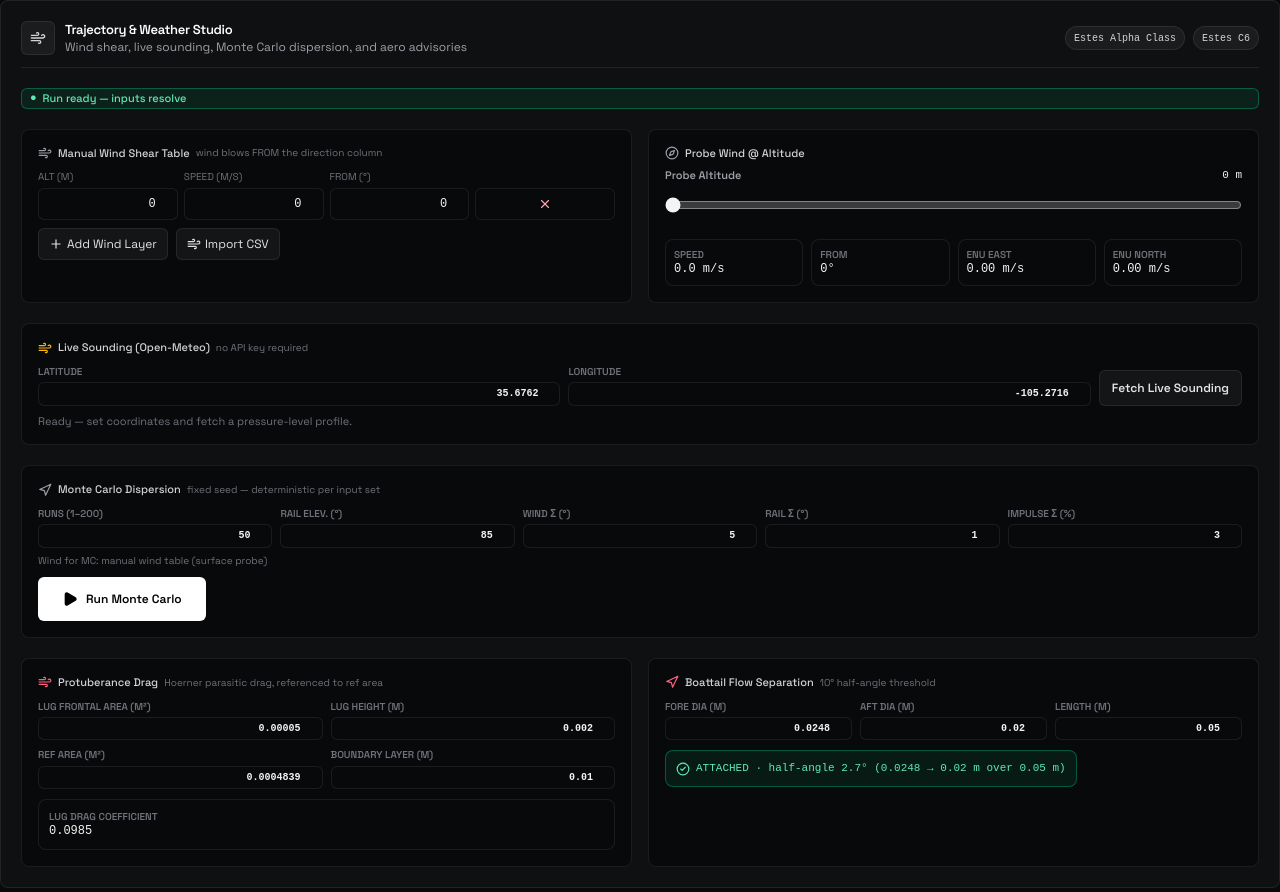
Test case: TrajectoryStudio › uses the fetched live sounding for MC wind (sounding > manual)
Step 1. Click the button "Fetch Live Sounding" → (1170, 388), box [1099,370,1242,406]
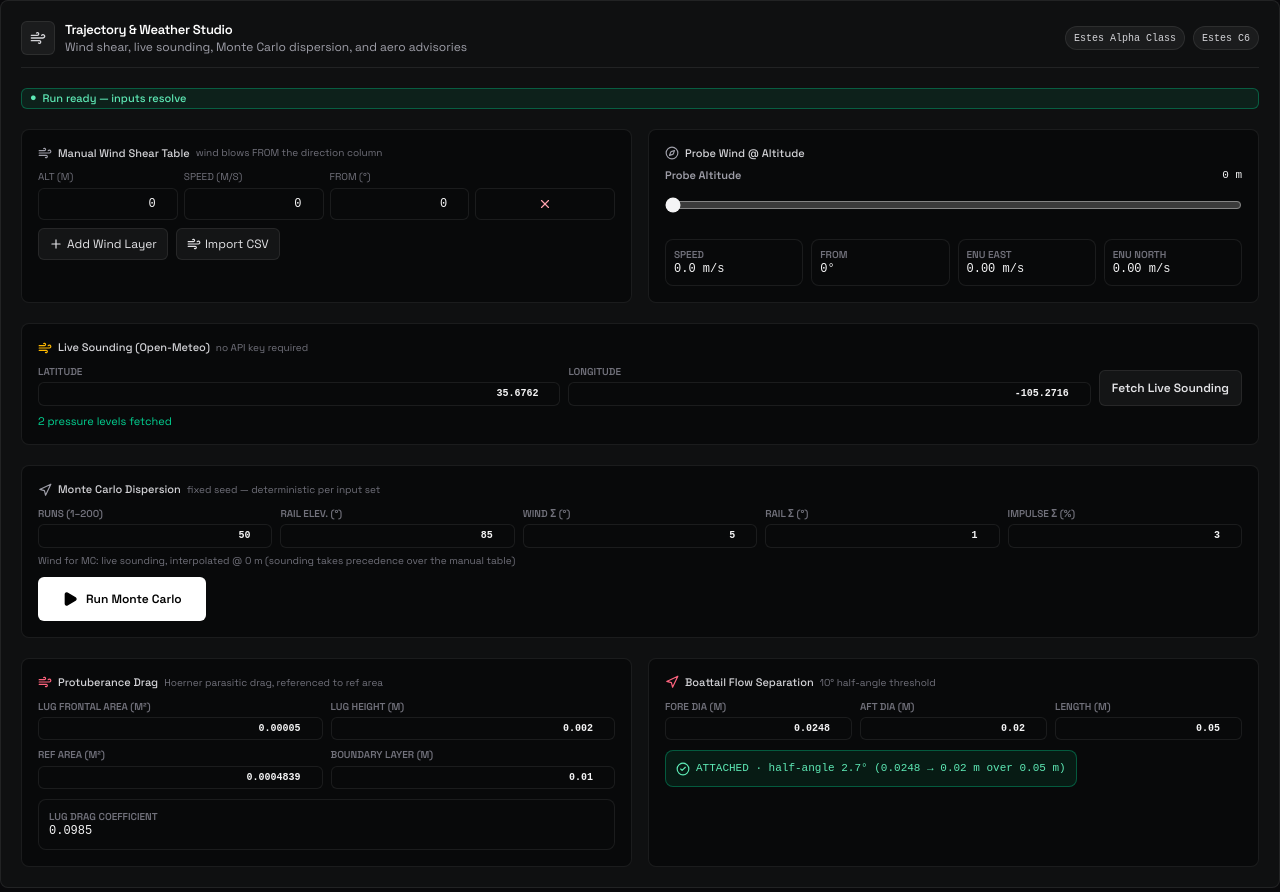
Now the text "2 pressure levels fetched" is shown, box [38,414,172,428]
Step 2. Replace the text in the number field named "Monte Carlo run count" with "5" → (155, 536), box [38,524,272,548]
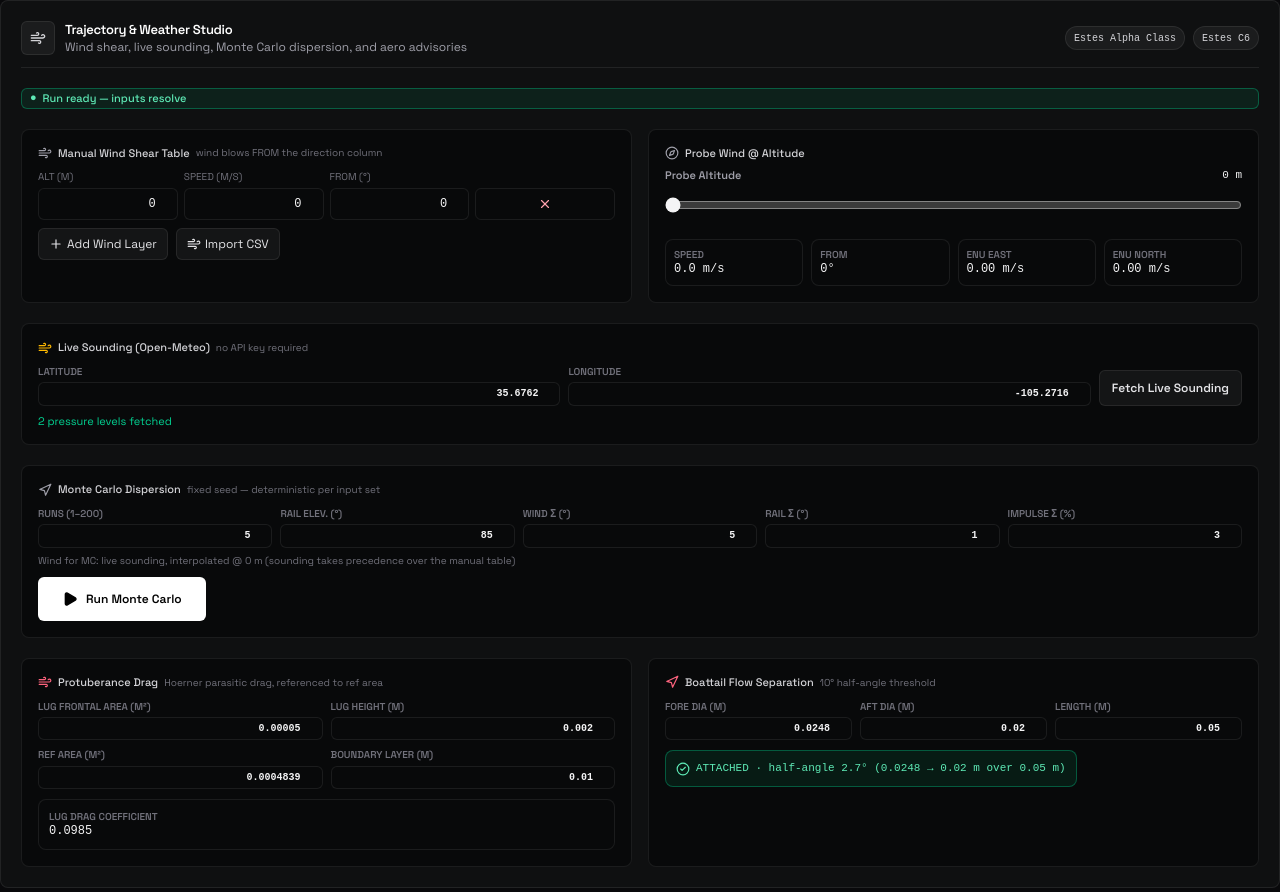
Step 3. Replace the text in the number field named "Wind direction sigma (deg)" with "0" → (640, 536), box [523,524,757,548]
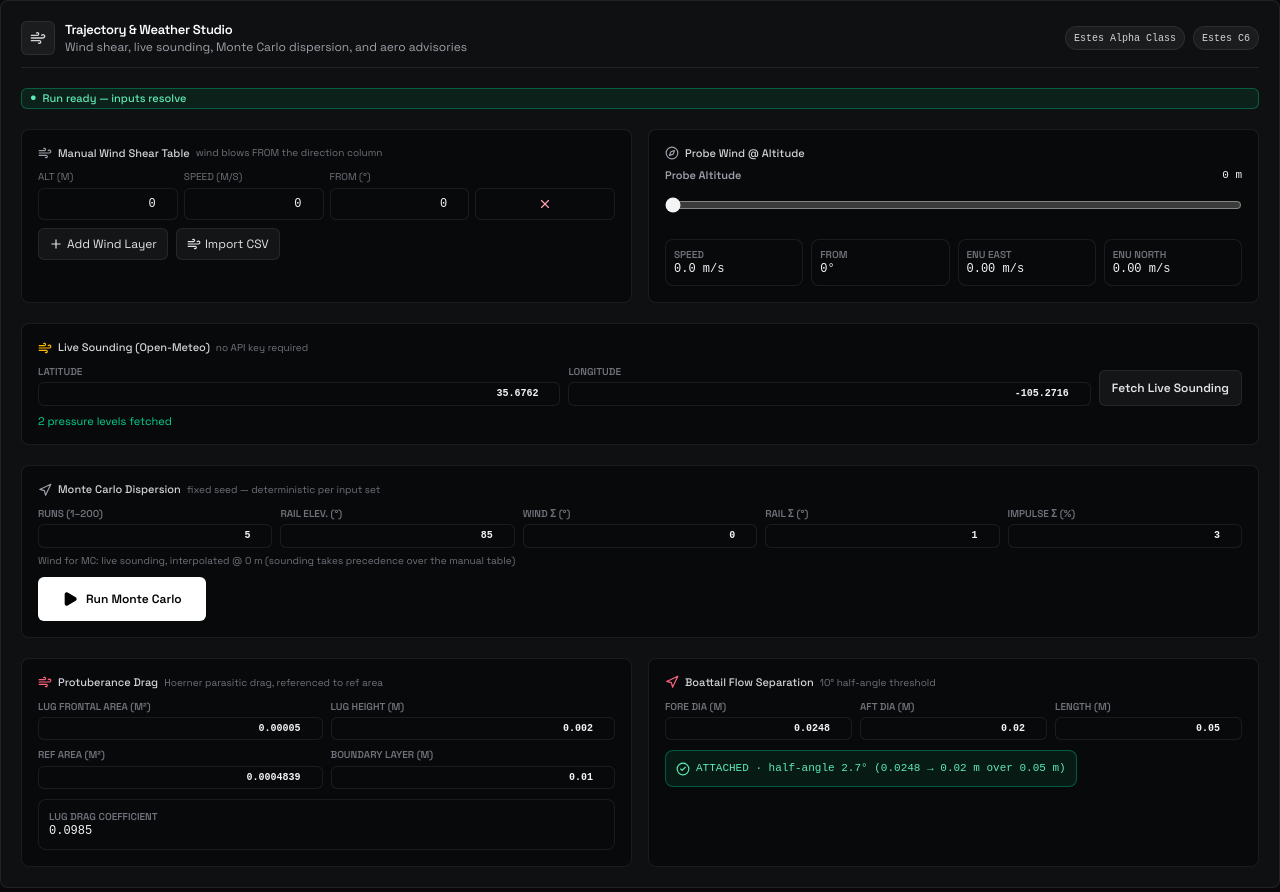
Step 4. Replace the text in the number field named "Rail angle sigma (deg)" with "0" → (882, 536), box [765,524,1000,548]
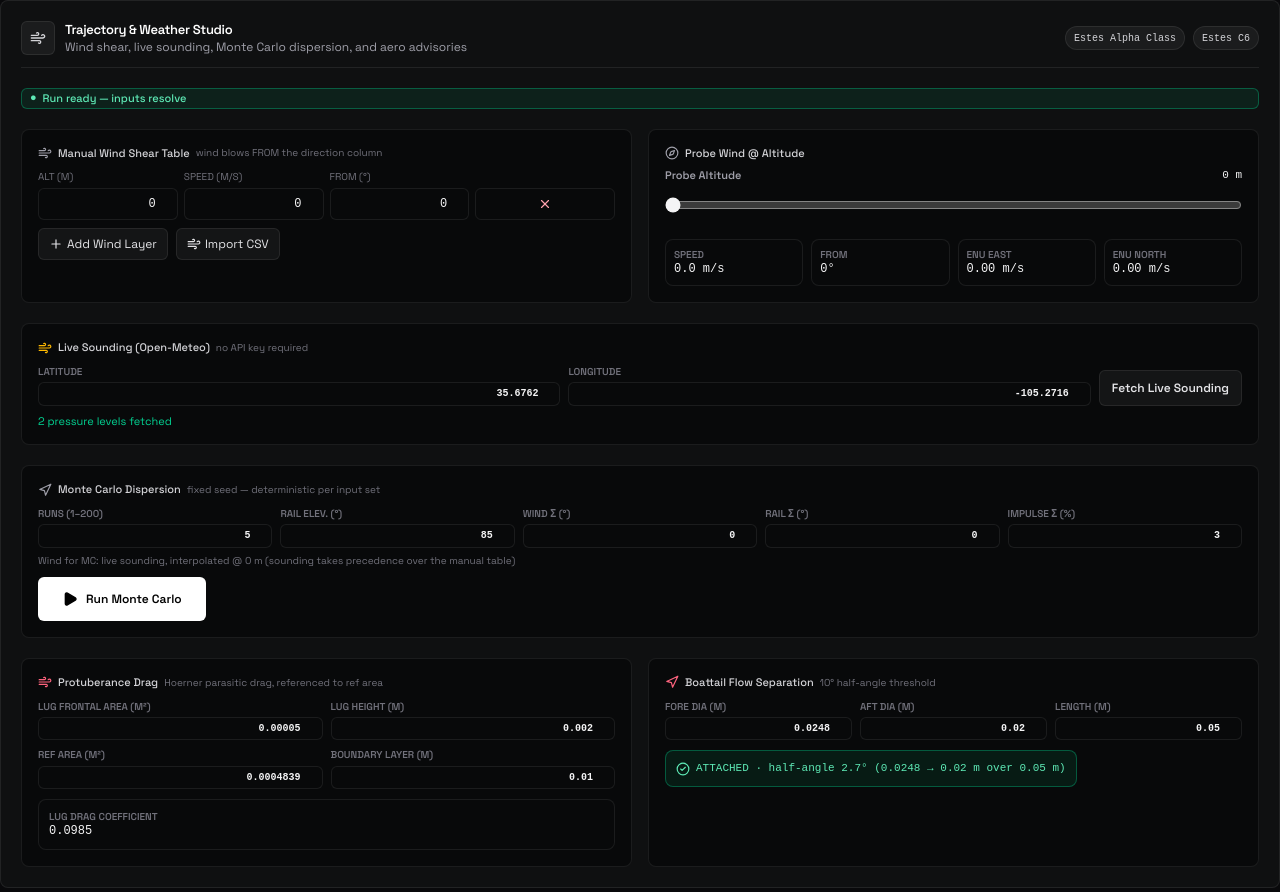
Step 5. Replace the text in the number field named "Impulse sigma (%)" with "0" → (1125, 536), box [1008,524,1242,548]
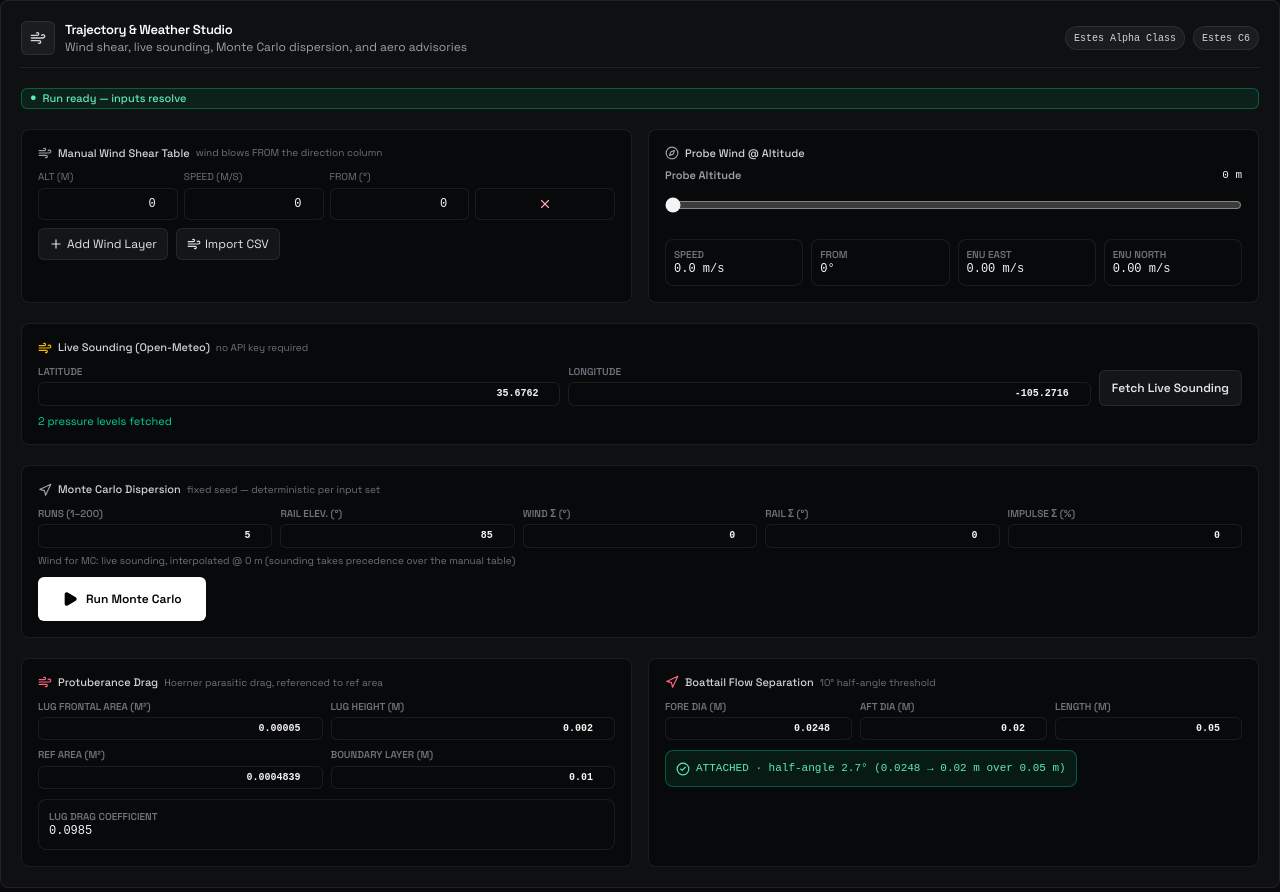
Step 6. Click the button "Run Monte Carlo" → (122, 599), box [38,577,206,621]
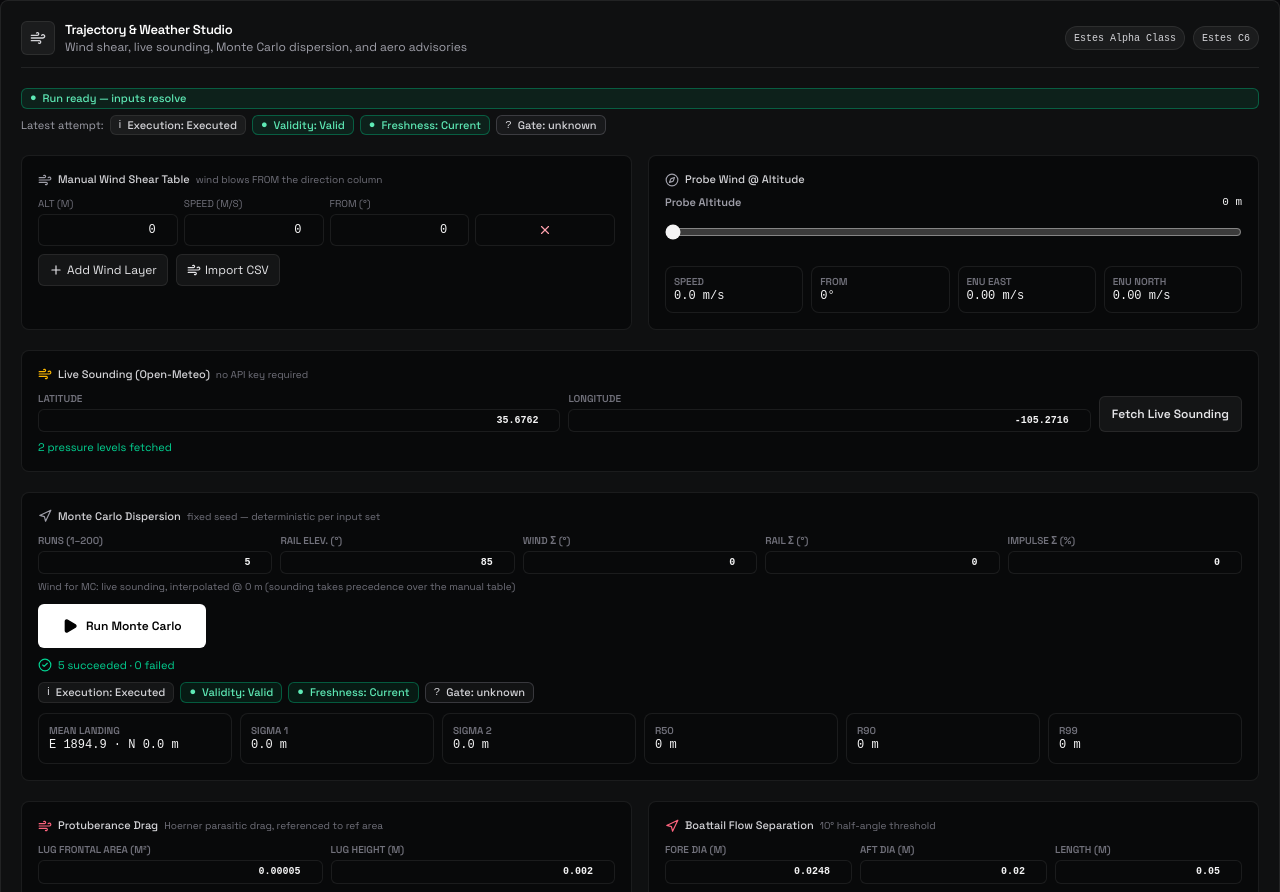
Now the text "5 succeeded · 0 failed" is shown, box [58,658,174,672]
